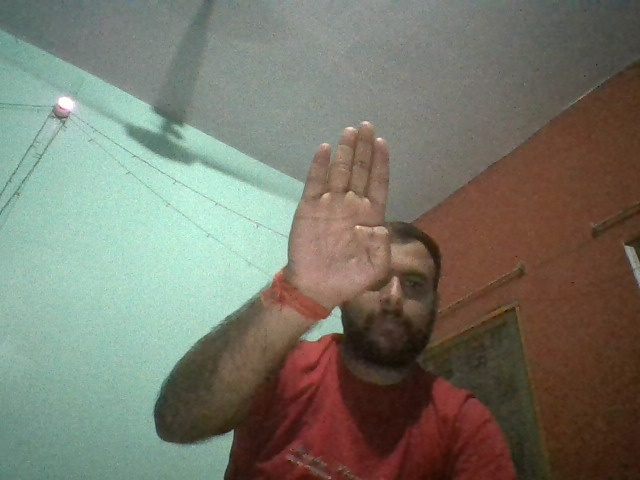hello: (289, 119, 392, 290)
